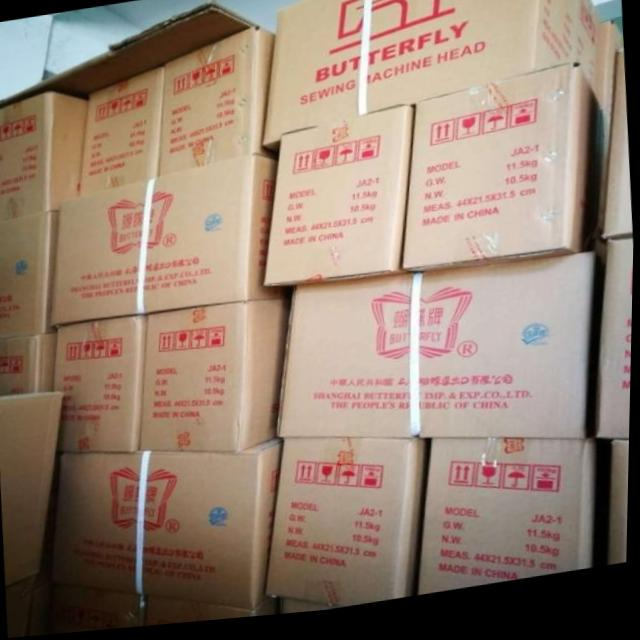box: (278, 262, 596, 451), (264, 0, 599, 163), (47, 442, 286, 615), (54, 158, 290, 326), (403, 75, 595, 280), (266, 443, 425, 613), (264, 111, 415, 290), (421, 447, 595, 602), (139, 305, 289, 458), (158, 30, 276, 180), (51, 316, 145, 456), (0, 390, 66, 585), (0, 90, 89, 220), (78, 67, 163, 195), (0, 212, 61, 338), (599, 251, 635, 452), (603, 60, 634, 249), (0, 333, 61, 396), (614, 452, 631, 576)
